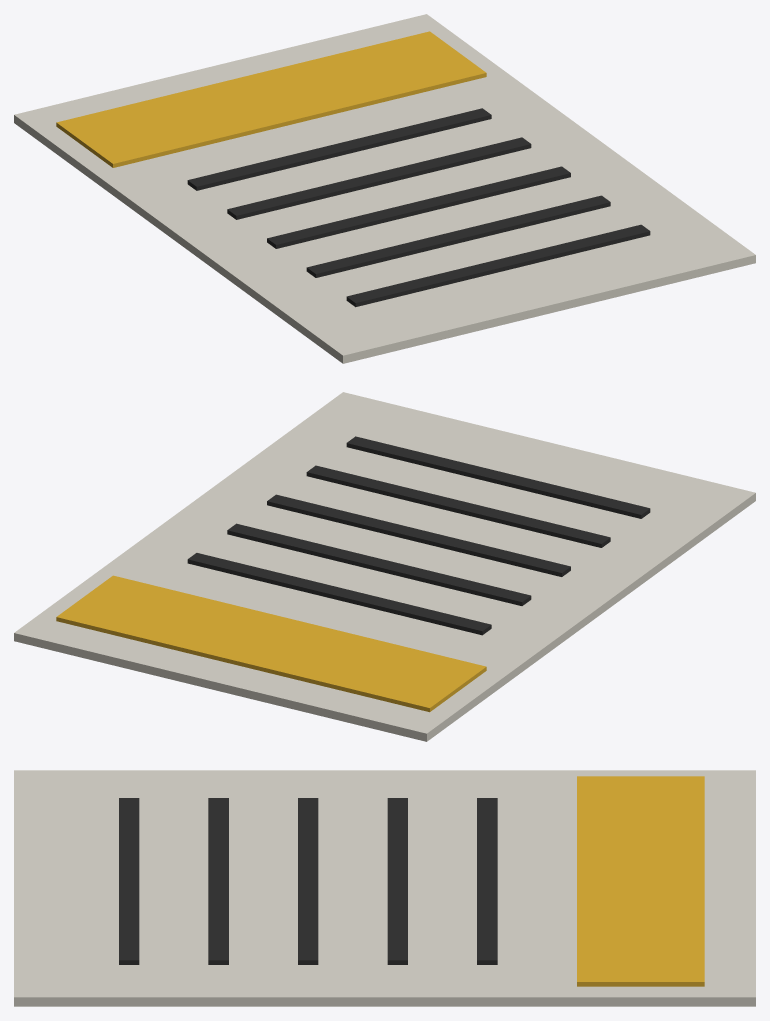
File: crown_price_list.glb
The picture shows the model from 3 angles, top to bottom: view 1: azimuth 30°, elevation 25°; view 2: azimuth 150°, elevation 25°; view 3: azimuth 270°, elevation 25°; orthographic projection. The views are drawn at different scales.
Parts seen in each view (by area): view 1: sheet_price_sheet, stripe_price_gold, lines_price_ink (×5); view 2: sheet_price_sheet, stripe_price_gold, lines_price_ink (×5); view 3: sheet_price_sheet, stripe_price_gold, lines_price_ink (×5).
Boxes of the visible parts, <box> form: sheet_price_sheet: <box>14,14,755,363</box>; stripe_price_gold: <box>56,31,486,167</box>; lines_price_ink (×5): <box>187,108,650,307</box>; sheet_price_sheet: <box>14,392,755,741</box>; stripe_price_gold: <box>56,575,486,712</box>; lines_price_ink (×5): <box>187,436,650,635</box>; sheet_price_sheet: <box>14,770,755,1006</box>; stripe_price_gold: <box>577,776,704,986</box>; lines_price_ink (×5): <box>119,798,497,964</box>.
Size of the model in its own units: 0.21 by 0.006 by 0.29.
